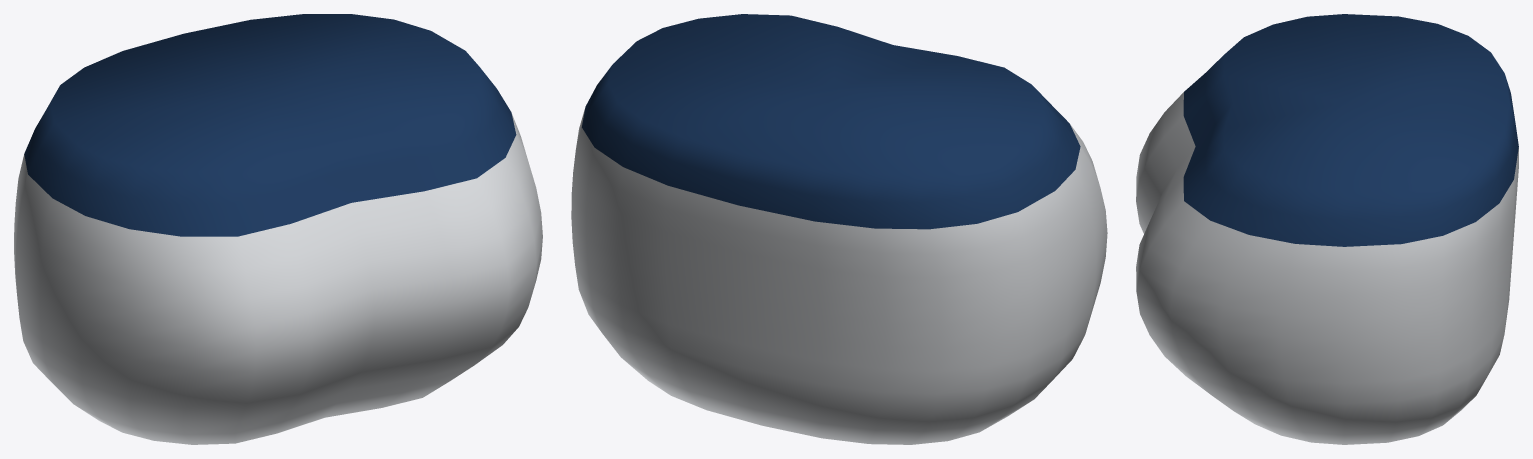
Rendered from pelvis.glb.
3 renders of one model, left to right at view 1: azimuth 30°, elevation 25°; view 2: azimuth 150°, elevation 25°; view 3: azimuth 270°, elevation 25°, orthographic. The views are drawn at different scales.
Visible parts, largest first — view 1: pelvis; view 2: pelvis; view 3: pelvis.
Boxes of the visible parts, bbox=[...] form: pelvis: bbox=[14, 14, 542, 444]; pelvis: bbox=[571, 14, 1107, 444]; pelvis: bbox=[1136, 14, 1518, 444].
Bounding box in the file's own units: 0.52 × 0.3 × 0.395.
